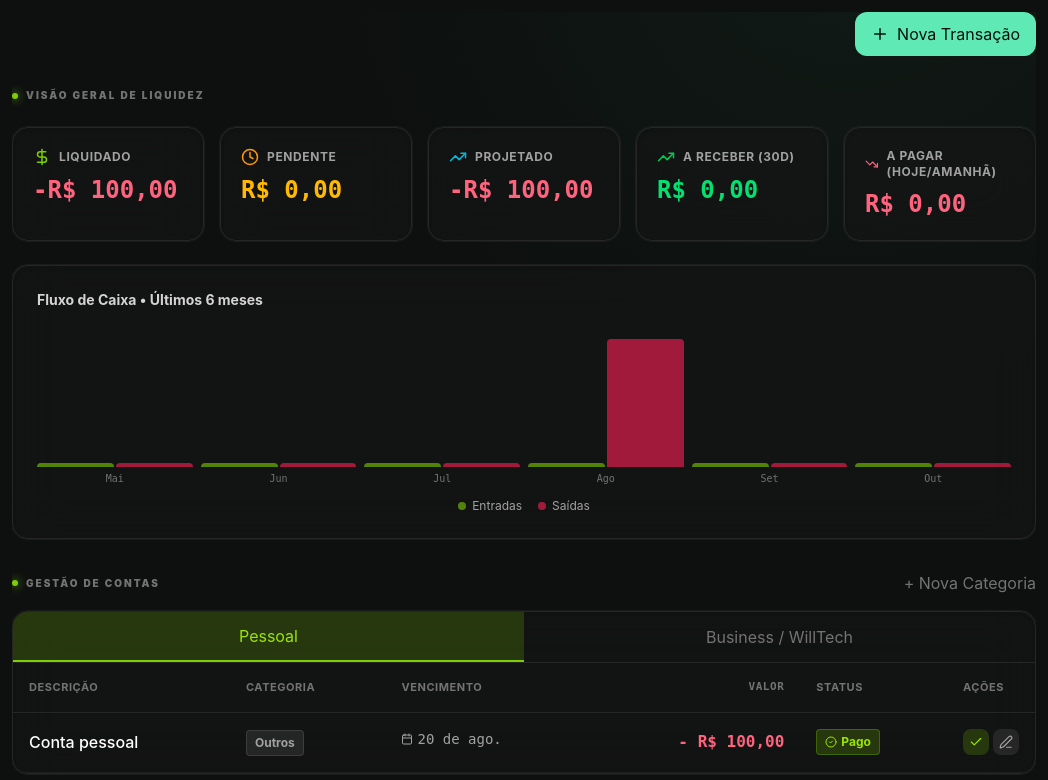
Test: FinanceHub › filtra lista e totais pela conta pessoal ou business
This screenshot has width=1048, height=780.
Expected: the text "Conta pessoal" is shown, [13,712,230,772]
Expected: the text "Cliente empresa" is not shown
Click the button "Business / WillTech".
click(780, 637)  # box [524,612,1035,662]
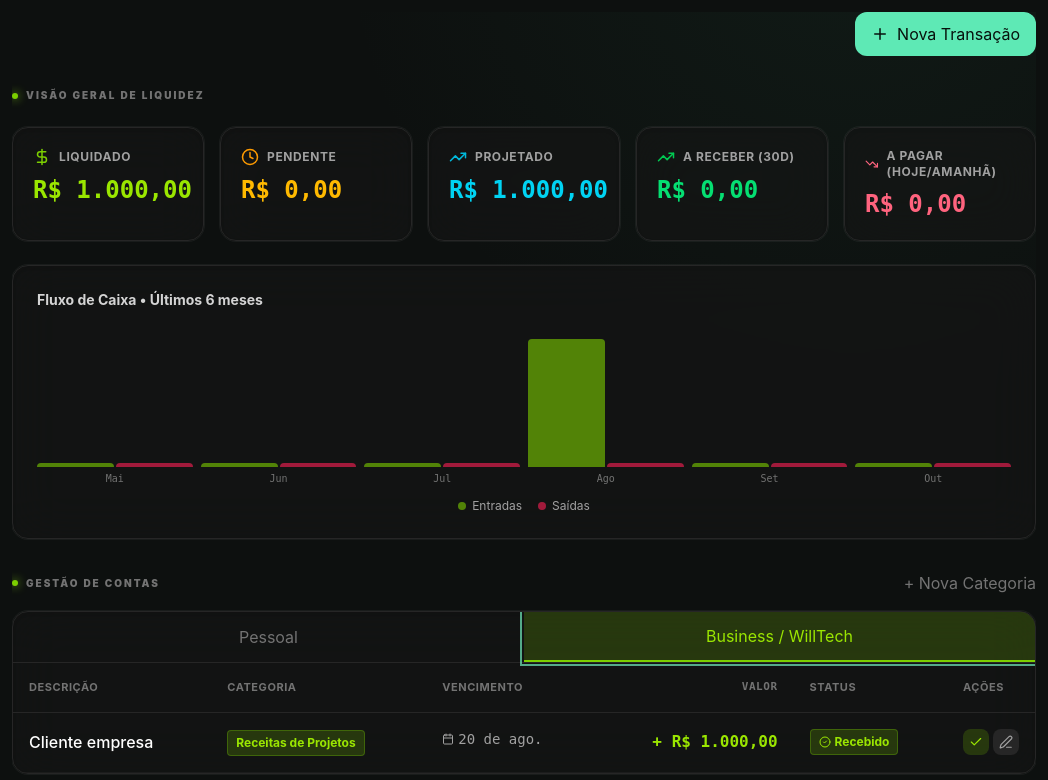
Expected: the text "Cliente empresa" is shown, [13,712,211,772]
Expected: the text "Conta pessoal" is gone
